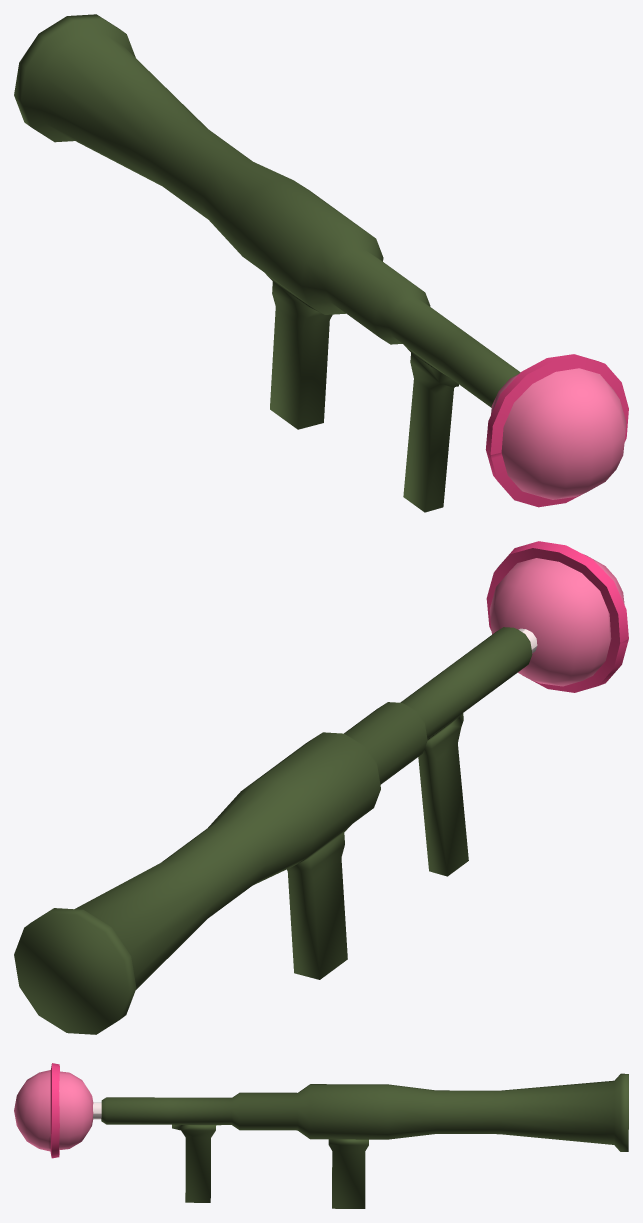
Rendered from CupcakeBazooka.glb.
3 renders of one model, top to bottom at view 1: azimuth 30°, elevation 25°; view 2: azimuth 150°, elevation 25°; view 3: azimuth 270°, elevation 25°, orthographic. The views are drawn at different scales.
Visible parts, largest first — view 1: Bazooka; view 2: Bazooka; view 3: Bazooka.
Boxes of the visible parts, x1,y1,x2,y2 form: Bazooka: (14,14,628,512); Bazooka: (14,541,628,1034); Bazooka: (14,1063,628,1208).
Size of the model in its own units: 1.06 by 1.74 by 6.92.
Materials: 2 (2 with a texture image).
